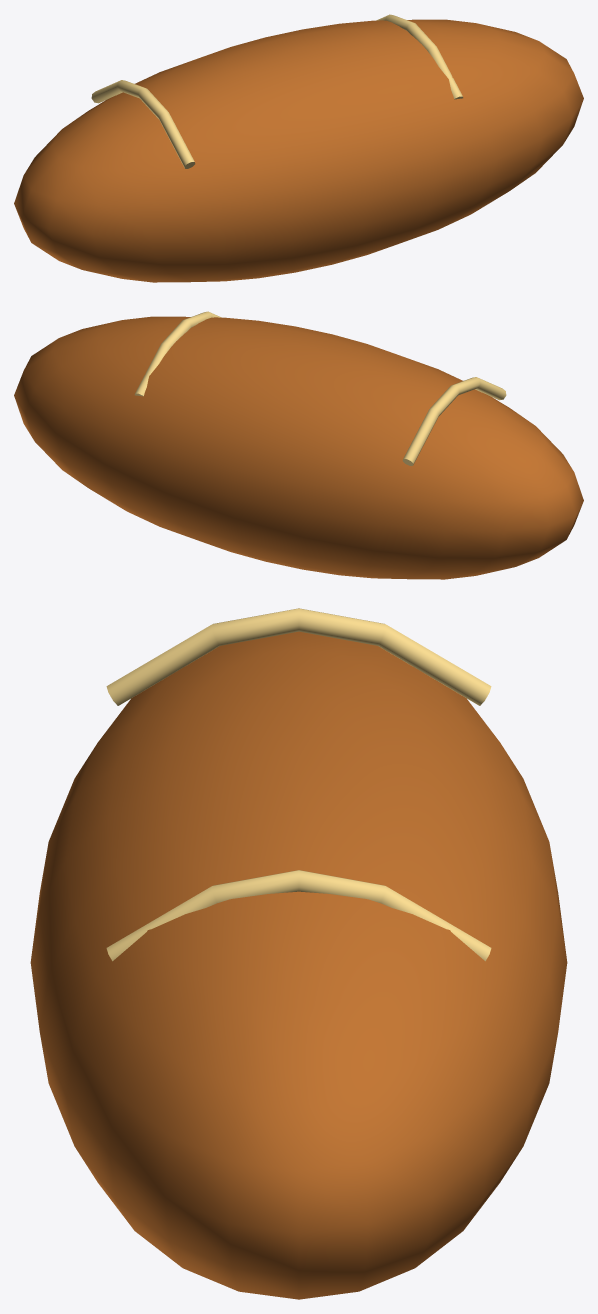
File: bread-loaf.glb
3 views of the same model, one above another, from view 1: azimuth 30°, elevation 25°; view 2: azimuth 150°, elevation 25°; view 3: azimuth 270°, elevation 25° (orthographic). The views are drawn at different scales.
Visible parts, largest first — view 1: edible_bread, edible_score, edible_score.002; view 2: edible_bread, edible_score, edible_score.002; view 3: edible_bread, edible_score, edible_score.002.
Part boxes in pixels (x1=…): edible_bread: x1=14, y1=19, x2=583, y2=282; edible_score: x1=91, y1=80, x2=195, y2=168; edible_score.002: x1=376, y1=14, x2=463, y2=99; edible_bread: x1=14, y1=316, x2=583, y2=579; edible_score: x1=402, y1=377, x2=506, y2=465; edible_score.002: x1=134, y1=311, x2=221, y2=396; edible_bread: x1=30, y1=631, x2=567, y2=1299; edible_score: x1=106, y1=608, x2=491, y2=705; edible_score.002: x1=106, y1=870, x2=491, y2=961.
Bounding box in the file's own units: 0.31 × 0.11 × 0.13.
